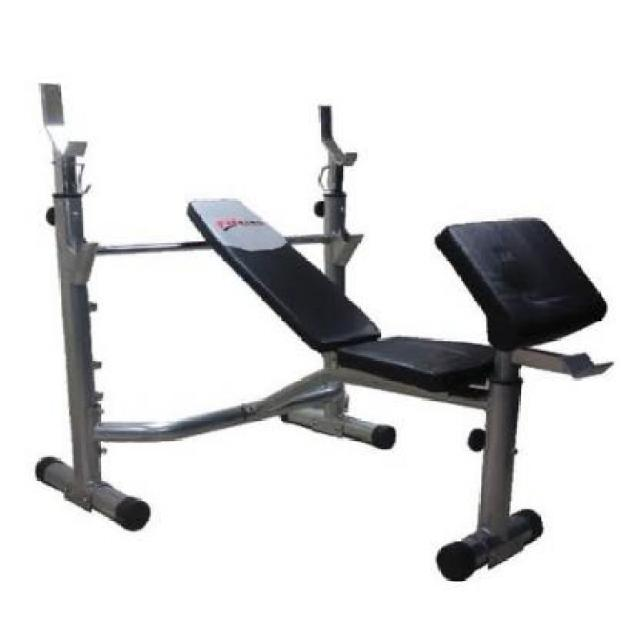arm curl machine: (34, 80, 615, 583)
